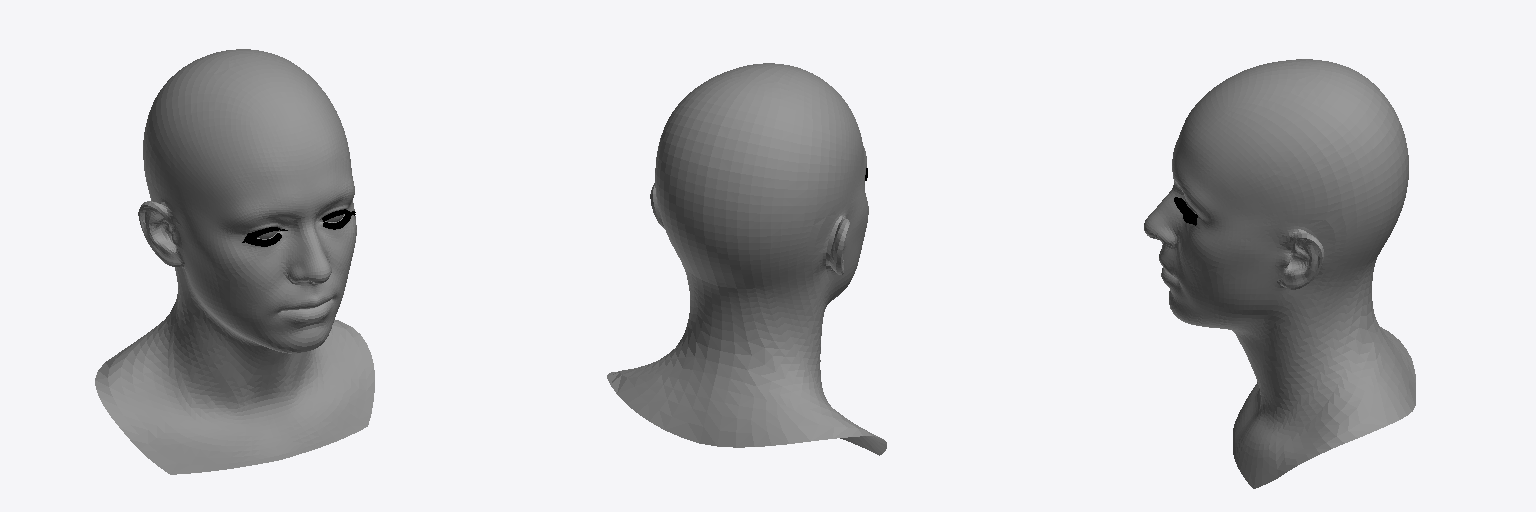
Rendered from identity068.obj.
3 views of the same model, side by side, from view 1: azimuth 30°, elevation 25°; view 2: azimuth 150°, elevation 25°; view 3: azimuth 270°, elevation 25° (orthographic).
Bounding box in the file's own units: 24.81 × 33.83 × 22.34.